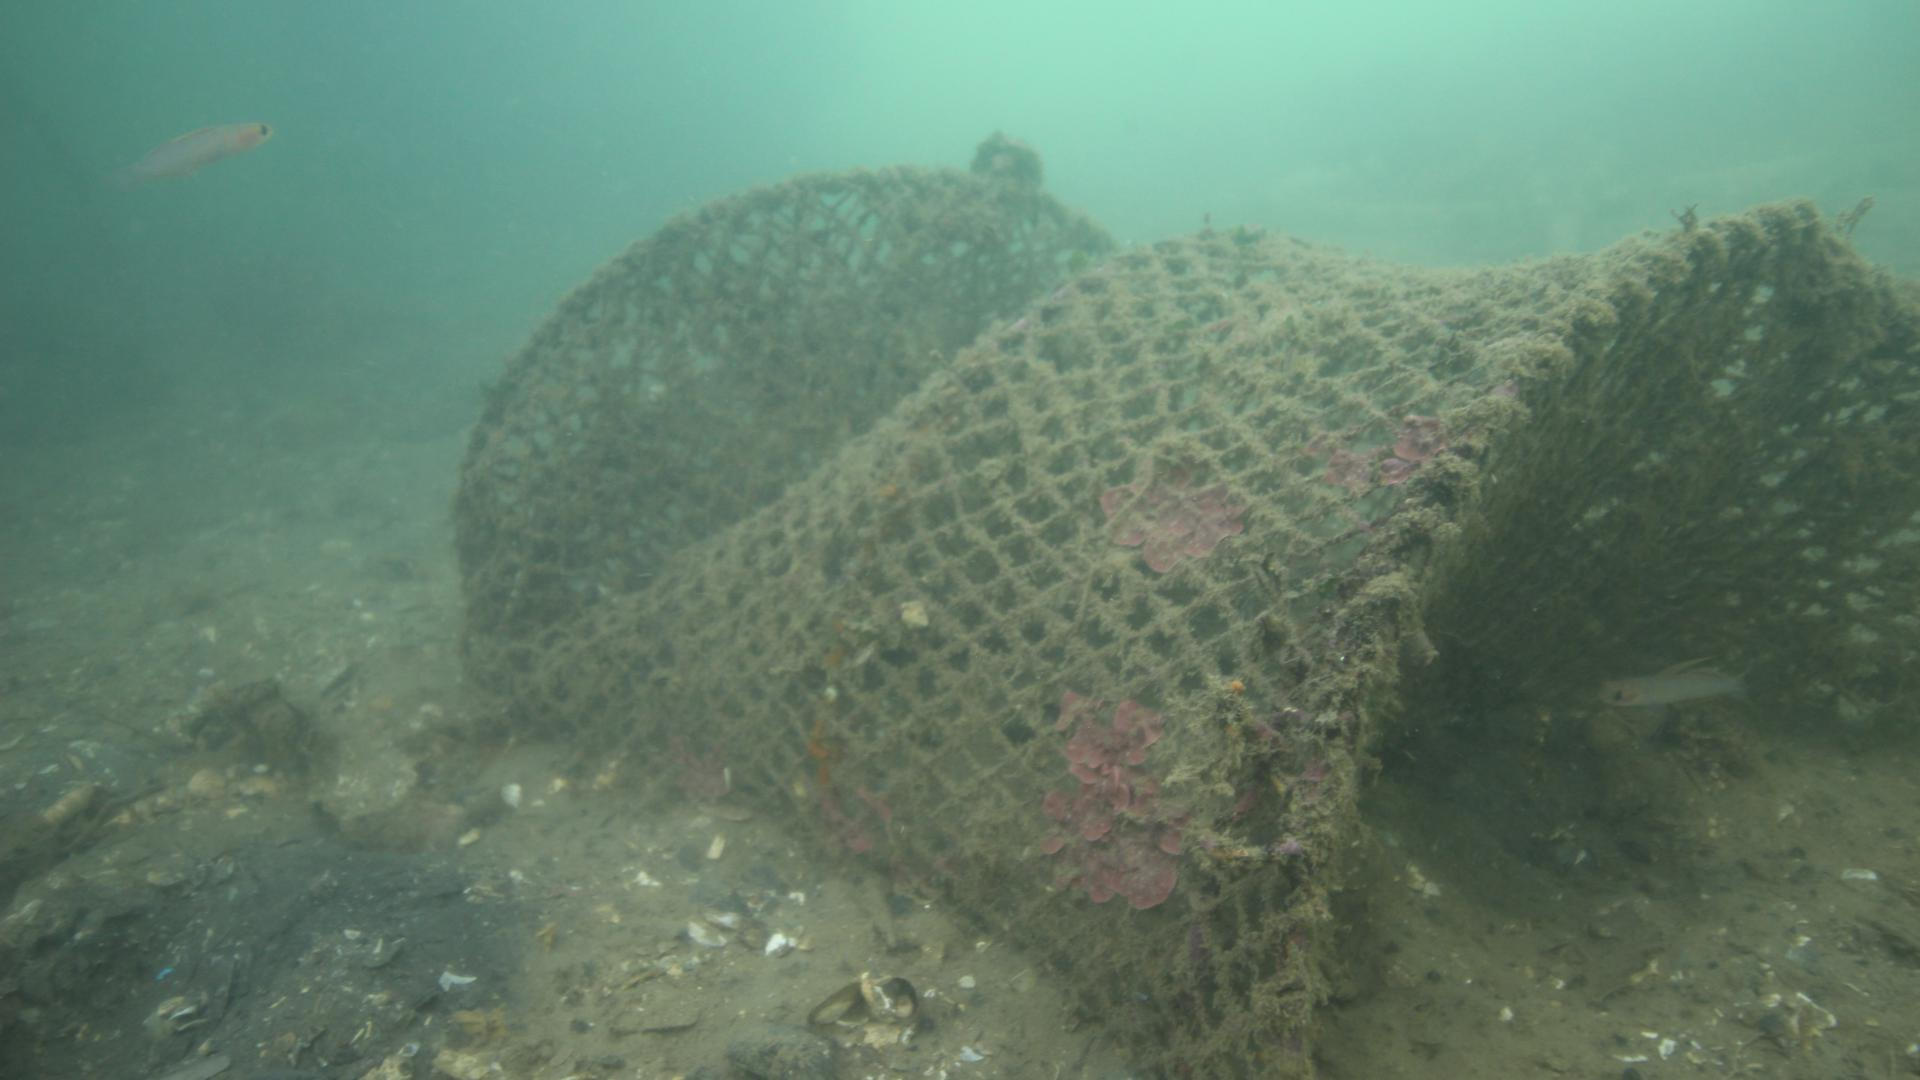spring fish trap: (450, 160, 1920, 1079)
